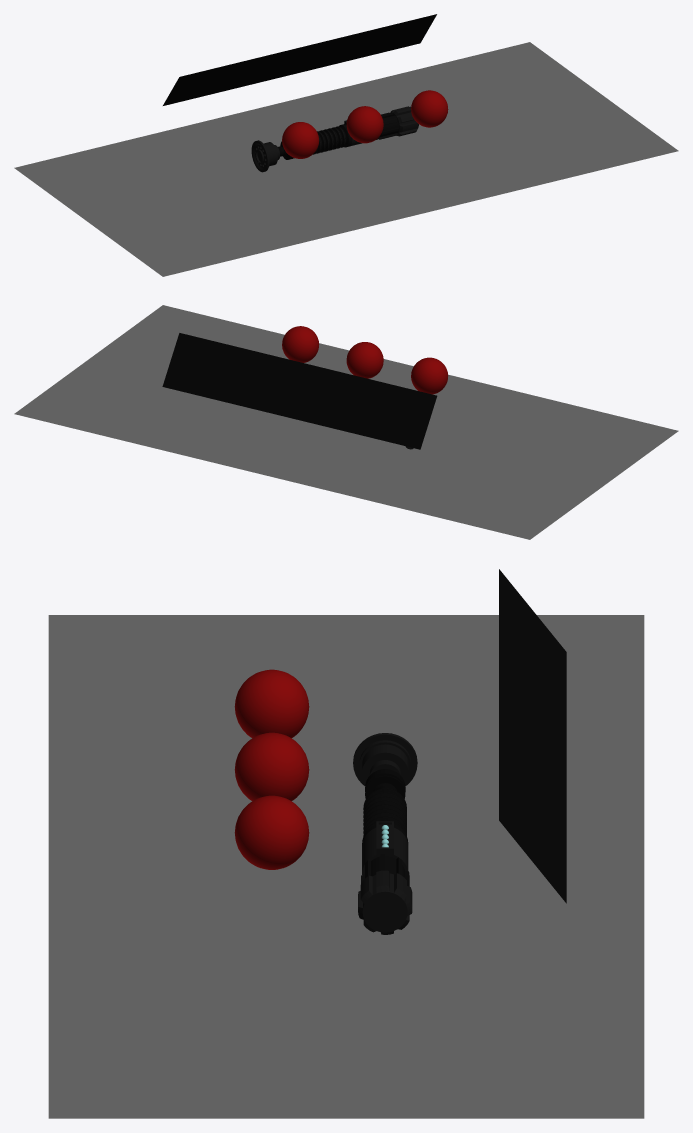
The model's file is _ObiWan.obj.
3 views of the same model, one above another, from view 1: azimuth 30°, elevation 25°; view 2: azimuth 150°, elevation 25°; view 3: azimuth 270°, elevation 25° (orthographic). The views are drawn at different scales.
Visible parts, largest first — view 1: Ground, Light1, Steel, Black, Sphere.002, Sphere, Sphere.001; view 2: Ground, Light1, Sphere.002, Sphere.001, Sphere; view 3: Ground, Light1, Steel, Sphere, Sphere.001, Sphere.002, Black.
Part boxes in pixels (<box>): Ground: <box>14,42,678,276</box>; Light1: <box>163,14,436,105</box>; Steel: <box>251,106,418,172</box>; Black: <box>313,112,399,154</box>; Sphere.002: <box>346,106,383,143</box>; Sphere: <box>411,90,448,127</box>; Sphere.001: <box>282,122,318,158</box>; Ground: <box>14,305,678,539</box>; Light1: <box>162,333,437,449</box>; Sphere.002: <box>346,342,383,378</box>; Sphere.001: <box>411,357,448,394</box>; Sphere: <box>282,326,319,362</box>; Ground: <box>48,615,644,1118</box>; Light1: <box>499,569,566,903</box>; Steel: <box>353,733,417,934</box>; Sphere: <box>234,795,309,869</box>; Sphere.001: <box>234,669,309,738</box>; Sphere.002: <box>234,732,309,801</box>; Black: <box>361,788,409,886</box>.
Size of the model in its own units: 32 by 5.1 by 16.
